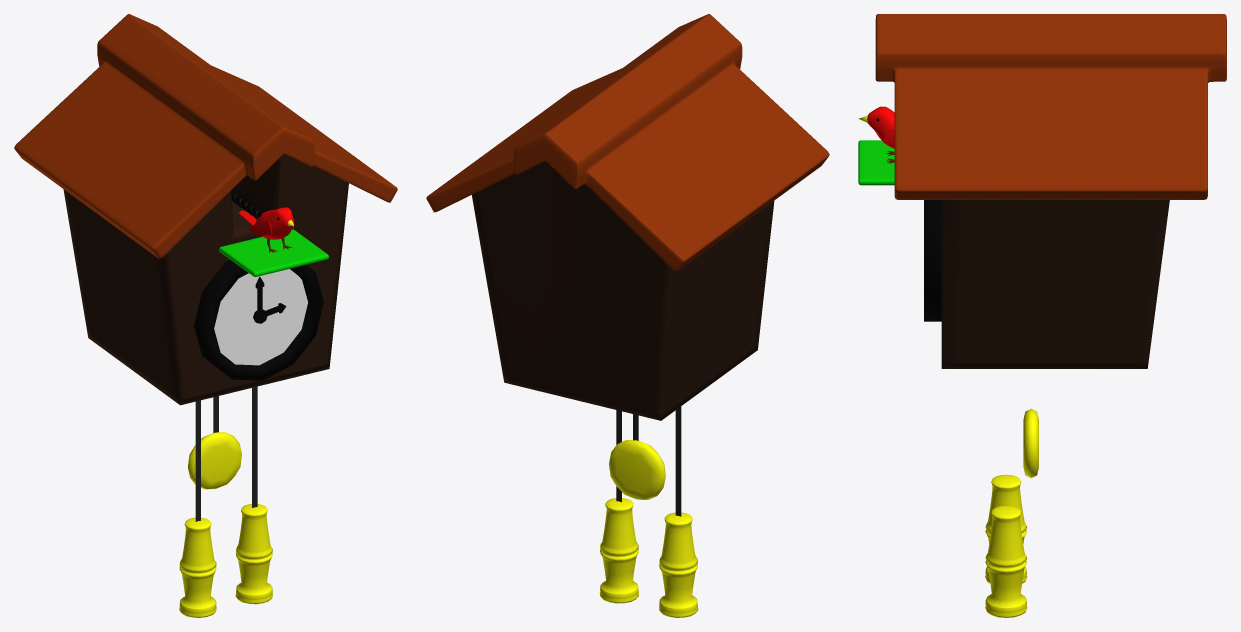
Rendered from CuckooClock.fbx.
3 renders of one model, left to right at view 1: azimuth 30°, elevation 25°; view 2: azimuth 150°, elevation 25°; view 3: azimuth 270°, elevation 25°, orthographic. The views are drawn at different scales.
Visible parts, largest first — view 1: BirdFeet_pCylinder1; view 2: BirdFeet_pCylinder1; view 3: BirdFeet_pCylinder1.
Boxes of the visible parts, x1,y1,x2,y2 form: BirdFeet_pCylinder1: [14, 14, 397, 617]; BirdFeet_pCylinder1: [426, 14, 829, 617]; BirdFeet_pCylinder1: [858, 14, 1226, 617].
Size of the model in its own units: 1.65 by 3.33 by 1.91.
